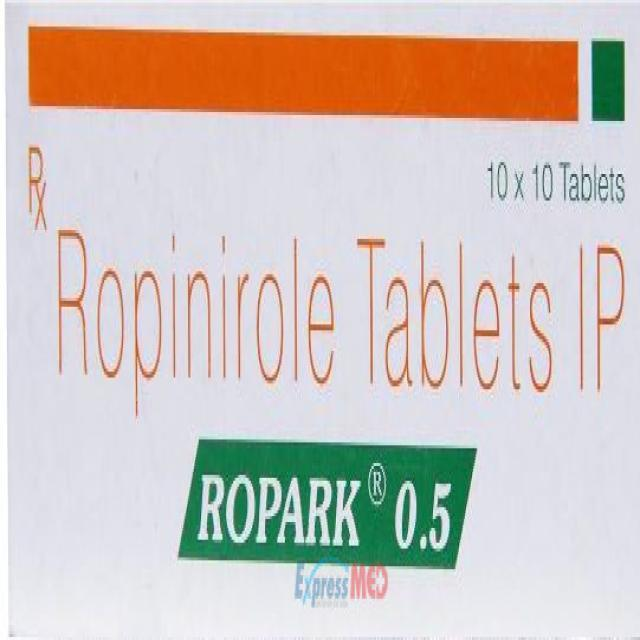drug-name: (195, 464, 456, 554)
